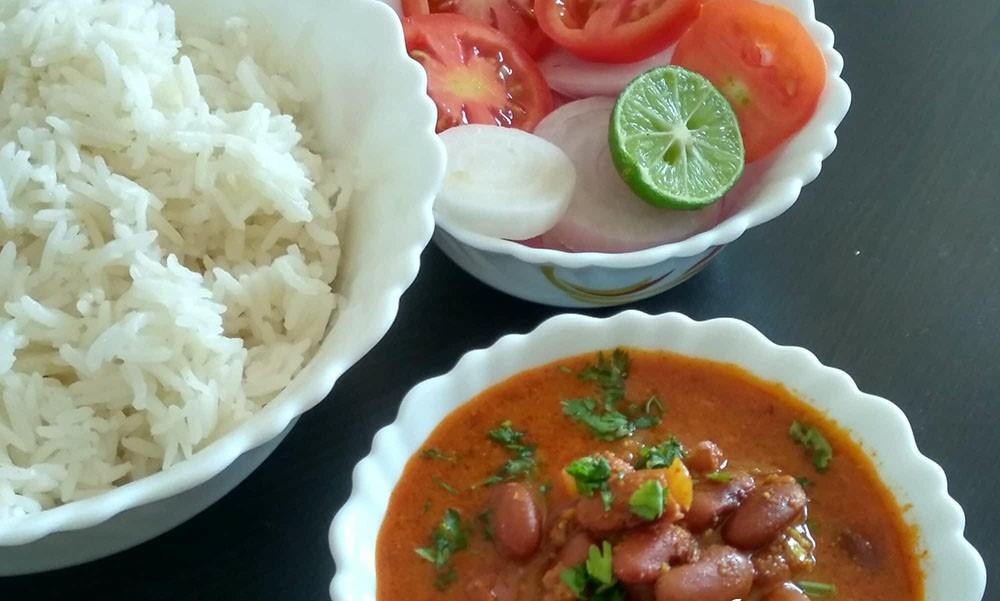RajmaCurry: (374, 341, 922, 601)
WhiteRice: (0, 0, 352, 520)
